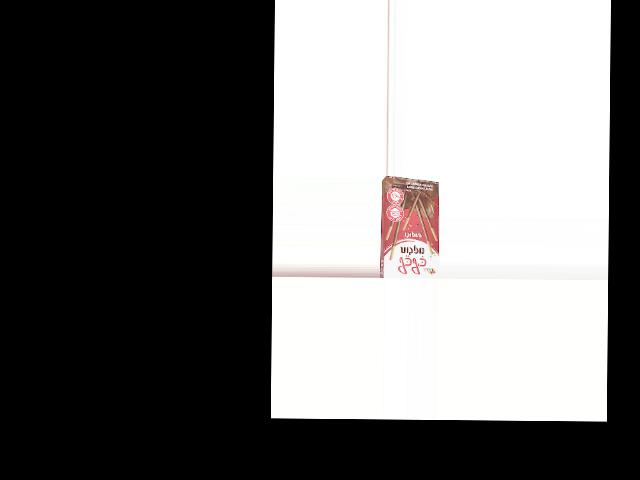chocolate: (380, 182, 440, 278)
